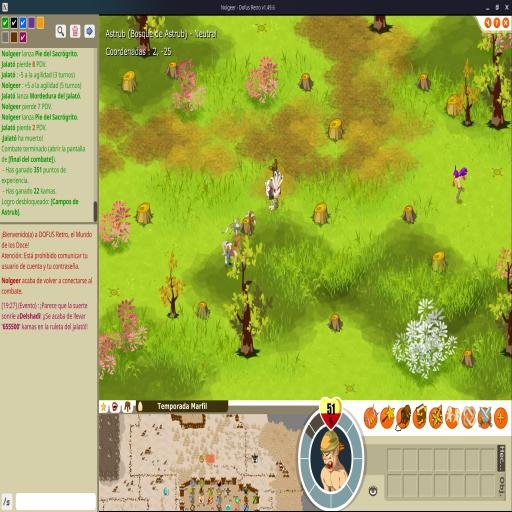Personaje: (450, 162, 471, 214)
